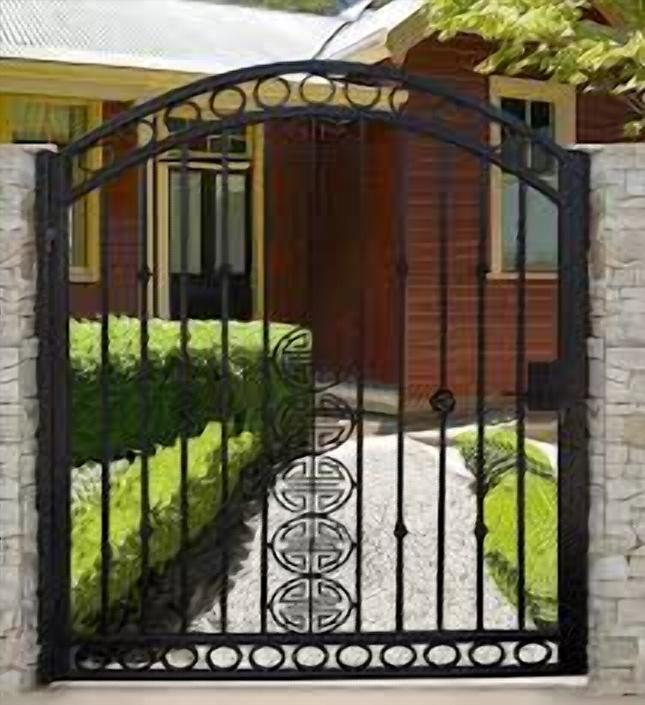Building: (0, 0, 645, 416)
Door: (160, 161, 254, 348)
Gate: (31, 58, 589, 681)
Window-without-grill: (0, 95, 80, 273), (495, 92, 569, 276), (167, 113, 251, 158)
